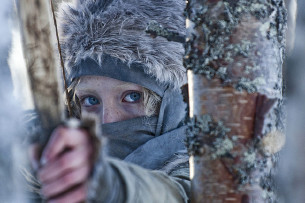face_mask: (78, 64, 160, 162)
